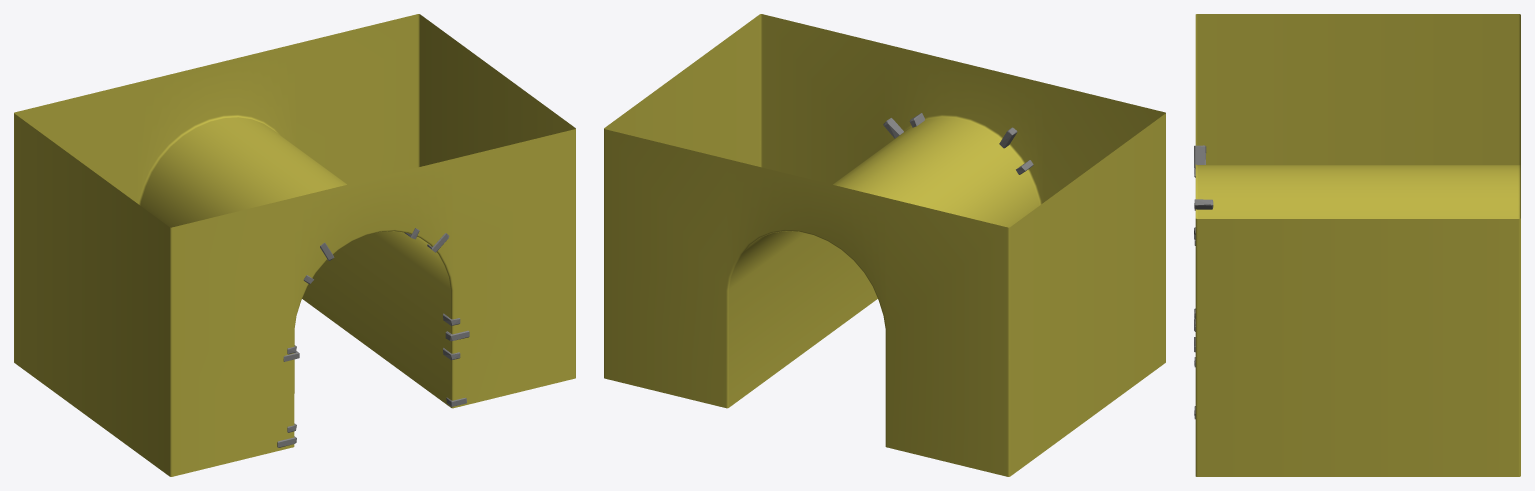
The model's file is SM_building_modular_floor_2x1_03.fbx.
The picture shows the model from 3 angles, left to right: view 1: azimuth 30°, elevation 25°; view 2: azimuth 150°, elevation 25°; view 3: azimuth 270°, elevation 25°; orthographic projection. The views are drawn at different scales.
Parts seen in each view (by area): view 1: Object32372; view 2: Object32372; view 3: Object32372.
Part boxes in pixels (<box>): Object32372: <box>14,14,575,476</box>; Object32372: <box>604,14,1165,476</box>; Object32372: <box>1194,14,1520,476</box>.
Size of the model in its own units: 417 by 245 by 281.
